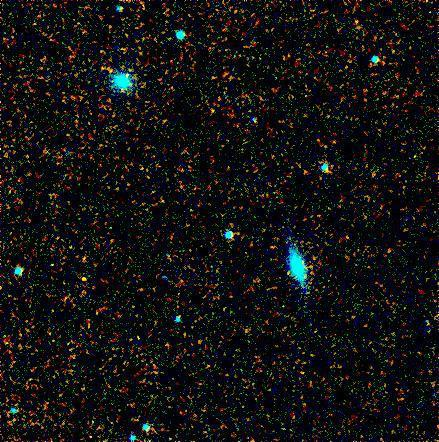star: (62, 265, 92, 295)
